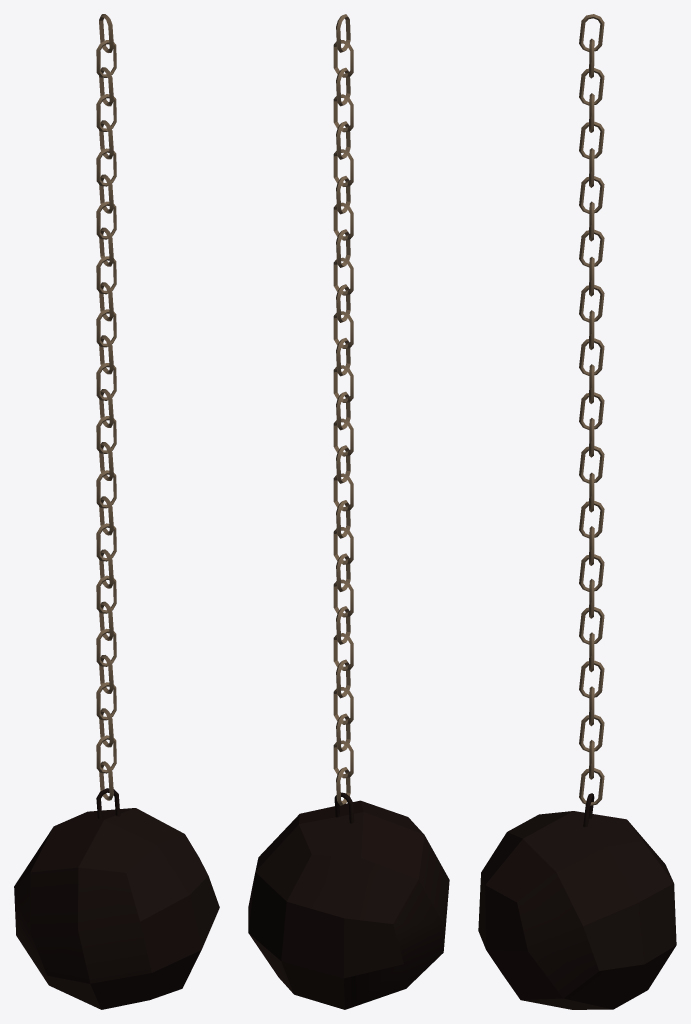
File: SM_WreckingBall.fbx
The picture shows the model from 3 angles, left to right: view 1: azimuth 30°, elevation 25°; view 2: azimuth 150°, elevation 25°; view 3: azimuth 270°, elevation 25°; orthographic projection.
Visible parts, largest first — view 1: BigBall, BigChain; view 2: BigBall, BigChain; view 3: BigBall, BigChain.
Boxes of the visible parts, x1,y1,x2,y2 form: BigBall: [14, 788, 219, 1009]; BigChain: [96, 14, 116, 800]; BigBall: [248, 792, 449, 1009]; BigChain: [333, 14, 353, 805]; BigBall: [478, 793, 676, 1009]; BigChain: [579, 14, 604, 805].
Bounding box in the file's own units: 110 × 105 × 580.
